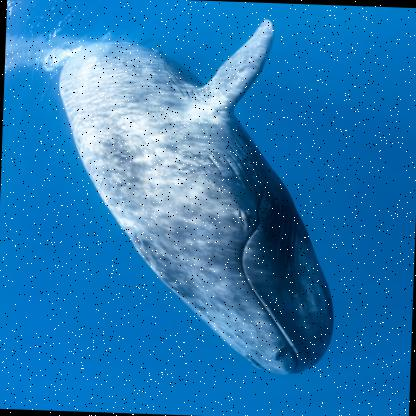blue_whale: (45, 3, 393, 402)
